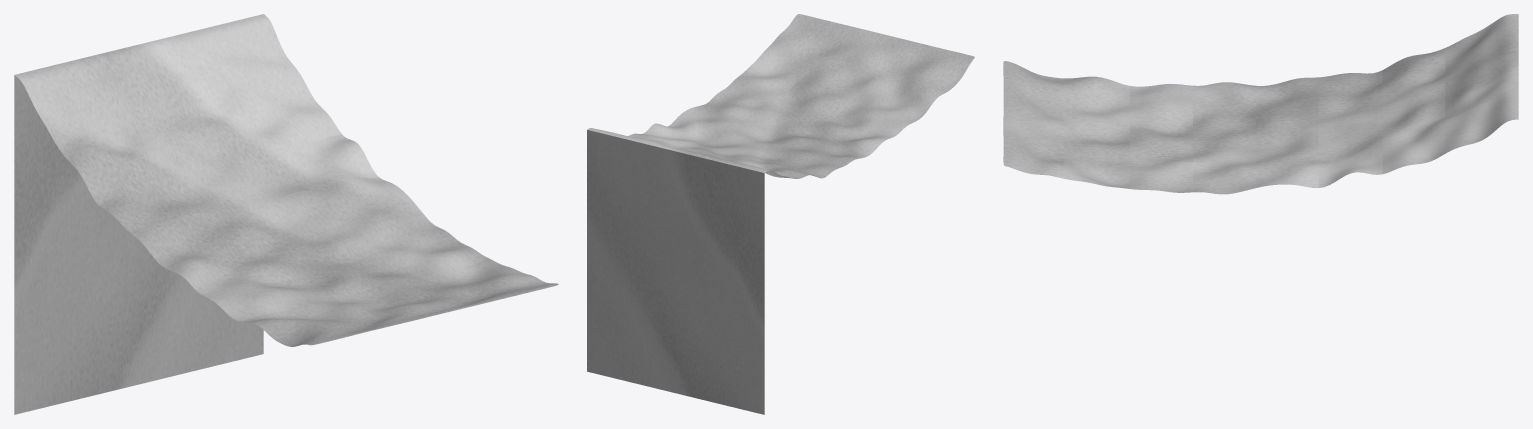
The model's file is Bumps+Speed_ver1_newMat.fbx.
3 renders of one model, left to right at view 1: azimuth 30°, elevation 25°; view 2: azimuth 150°, elevation 25°; view 3: azimuth 270°, elevation 25°, orthographic. The views are drawn at different scales.
Visible parts, largest first — view 1: Bumps+Speed_ver1.026, Bumps+Speed_ver1.025, Bumps+Speed_ver1.001, Bumps+Speed_ver1.002, Bumps+Speed_ver1.004, Bumps+Speed_ver1.003, Bumps+Speed_ver1.005, Bumps+Speed_ver1.007, Bumps+Speed_ver1.012, Bumps+Speed_ver1.008, Bumps+Speed_ver1.006, Bumps+Speed_ver1.011 (+14 smaller); view 2: Bumps+Speed_ver1.026, Bumps+Speed_ver1.025, Bumps+Speed_ver1.022, Bumps+Speed_ver1.021, Bumps+Speed_ver1.023, Bumps+Speed_ver1.020, Bumps+Speed_ver1.019, Bumps+Speed_ver1.016, Bumps+Speed_ver1.024, Bumps+Speed_ver1.017, Bumps+Speed_ver1.015, Bumps+Speed_ver1.014 (+11 smaller); view 3: Bumps+Speed_ver1.001, Bumps+Speed_ver1.015, Bumps+Speed_ver1.021, Bumps+Speed_ver1.016, Bumps+Speed_ver1.007, Bumps+Speed_ver1.002, Bumps+Speed_ver1.004, Bumps+Speed_ver1.012, Bumps+Speed_ver1.003, Bumps+Speed_ver1.008, Bumps+Speed_ver1.022, Bumps+Speed_ver1.020 (+12 smaller).
Part boxes in pixels (x1,y1,x2,y2): Bumps+Speed_ver1.026: [14, 220, 263, 414]; Bumps+Speed_ver1.025: [14, 75, 116, 244]; Bumps+Speed_ver1.001: [14, 51, 153, 144]; Bumps+Speed_ver1.002: [112, 31, 237, 119]; Bumps+Speed_ver1.004: [56, 120, 190, 196]; Bumps+Speed_ver1.003: [195, 14, 305, 95]; Bumps+Speed_ver1.005: [154, 96, 273, 167]; Bumps+Speed_ver1.007: [93, 167, 226, 232]; Bumps+Speed_ver1.012: [130, 209, 262, 267]; Bumps+Speed_ver1.008: [190, 147, 309, 208]; Bumps+Speed_ver1.006: [238, 84, 341, 146]; Bumps+Speed_ver1.011: [227, 189, 345, 244]; Bumps+Speed_ver1.026: [587, 251, 764, 414]; Bumps+Speed_ver1.025: [587, 130, 764, 293]; Bumps+Speed_ver1.022: [881, 40, 974, 89]; Bumps+Speed_ver1.021: [854, 71, 950, 115]; Bumps+Speed_ver1.023: [822, 25, 905, 70]; Bumps+Speed_ver1.020: [795, 56, 880, 99]; Bumps+Speed_ver1.019: [747, 42, 821, 84]; Bumps+Speed_ver1.016: [829, 99, 923, 133]; Bumps+Speed_ver1.024: [773, 14, 846, 56]; Bumps+Speed_ver1.017: [769, 84, 853, 120]; Bumps+Speed_ver1.015: [803, 121, 897, 152]; Bumps+Speed_ver1.014: [743, 102, 827, 136]; Bumps+Speed_ver1.001: [1445, 14, 1518, 87]; Bumps+Speed_ver1.015: [1193, 82, 1256, 131]; Bumps+Speed_ver1.021: [1064, 76, 1129, 128]; Bumps+Speed_ver1.016: [1130, 84, 1192, 133]; Bumps+Speed_ver1.007: [1318, 70, 1382, 119]; Bumps+Speed_ver1.002: [1445, 55, 1518, 119]; Bumps+Speed_ver1.004: [1382, 48, 1445, 106]; Bumps+Speed_ver1.012: [1256, 77, 1318, 127]; Bumps+Speed_ver1.003: [1445, 90, 1518, 153]; Bumps+Speed_ver1.008: [1318, 107, 1382, 156]; Bumps+Speed_ver1.022: [1003, 61, 1064, 117]; Bumps+Speed_ver1.020: [1064, 118, 1129, 163].
Size of the model in its own units: 2002 by 2604 by 4121.
